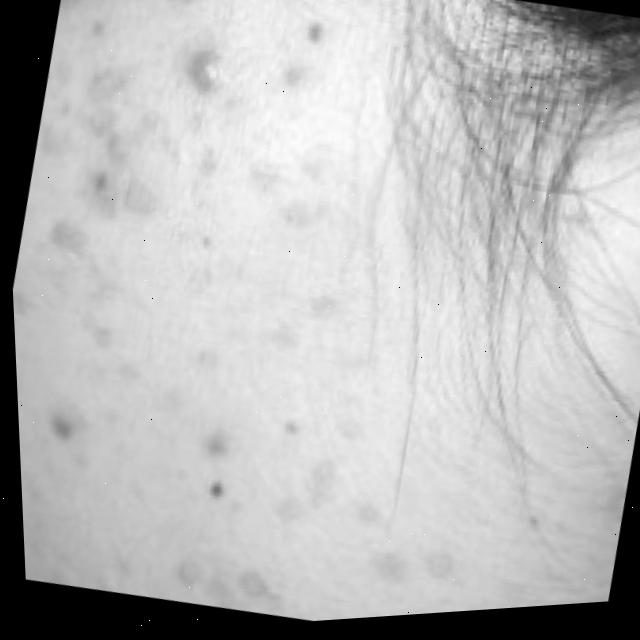Acne: (0, 0, 451, 609)
